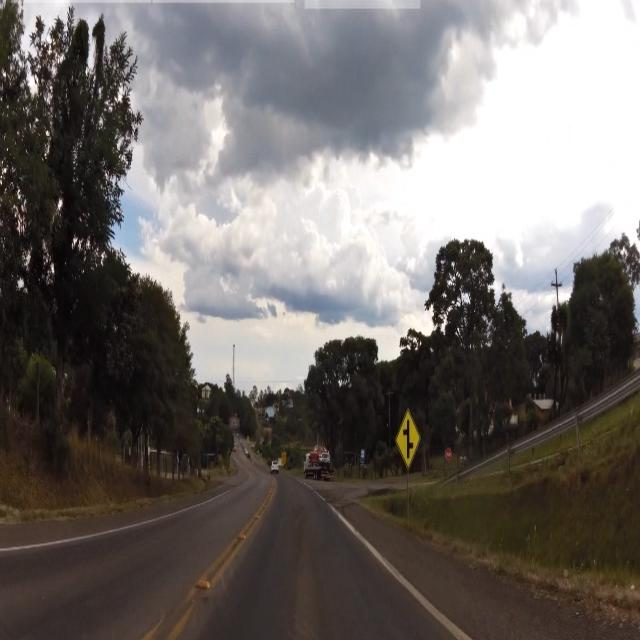A-11b: (394, 411, 427, 469)
